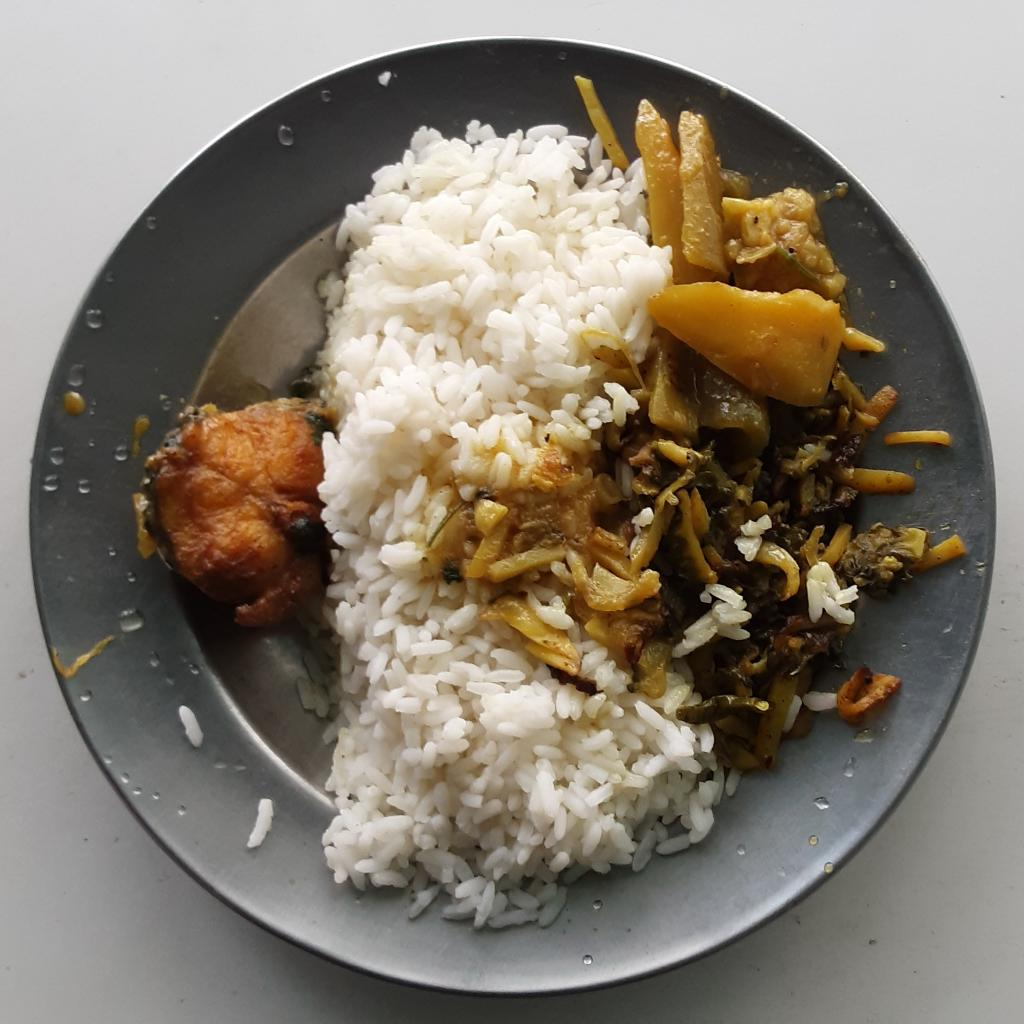fish: (134, 395, 333, 627)
korola-vaji: (614, 330, 923, 708)
potato: (633, 100, 899, 427), (687, 662, 805, 769), (570, 77, 628, 168)
rice: (298, 114, 747, 928)
